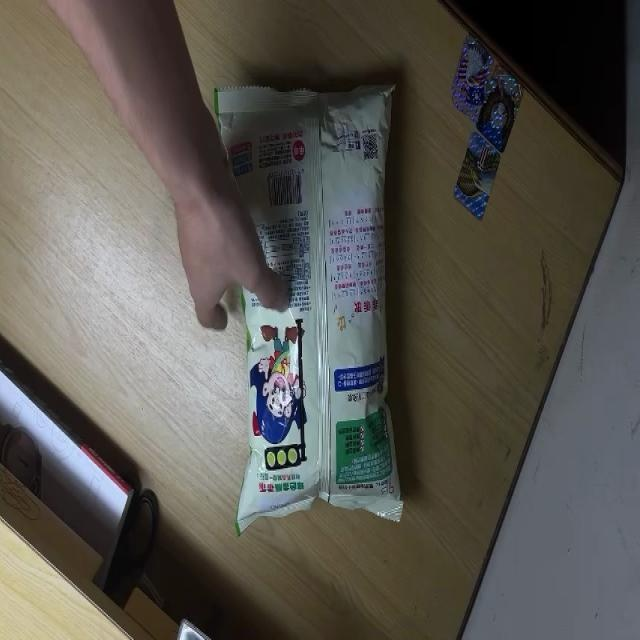Good-Luck: (212, 78, 407, 538)
